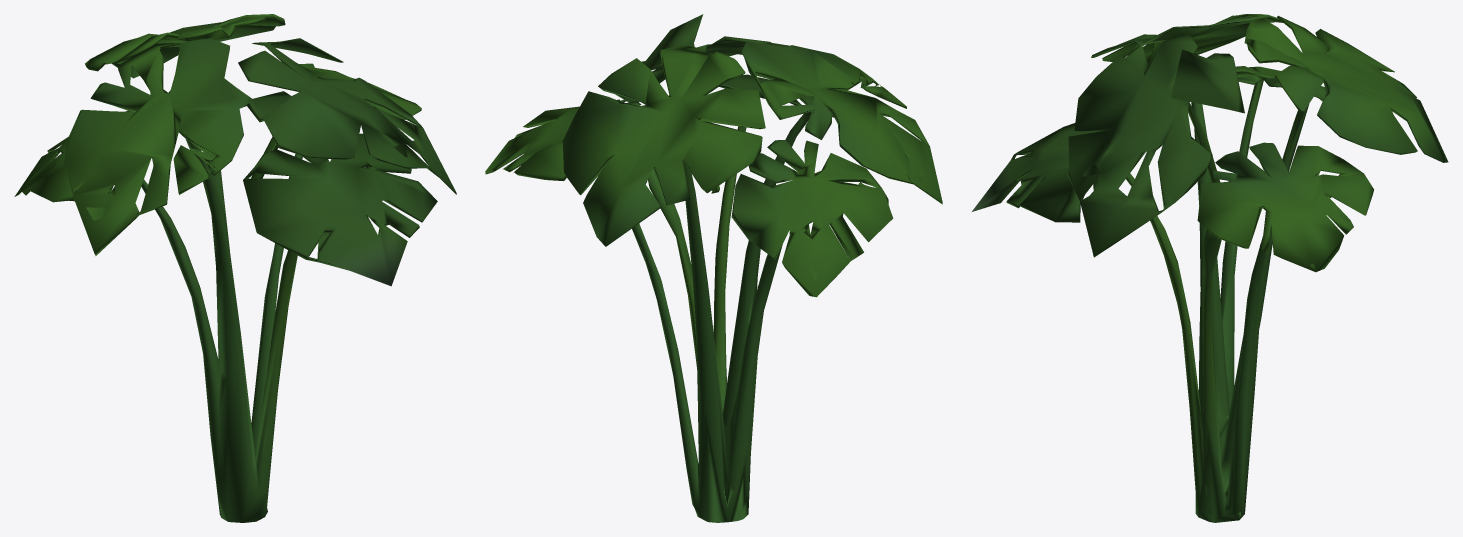
Rendered from gen3d-taro-plant-lod1.glb.
The picture shows the model from 3 angles, left to right: view 1: azimuth 30°, elevation 25°; view 2: azimuth 150°, elevation 25°; view 3: azimuth 270°, elevation 25°; orthographic projection.
Visible parts, largest first — view 1: part_0; view 2: part_0; view 3: part_0.
Part boxes in pixels (bbox=[...]): part_0: bbox=[14, 14, 456, 522]; part_0: bbox=[485, 14, 942, 522]; part_0: bbox=[972, 14, 1448, 522].
Size of the model in its own units: 0.8198 by 0.9987 by 0.8955.
